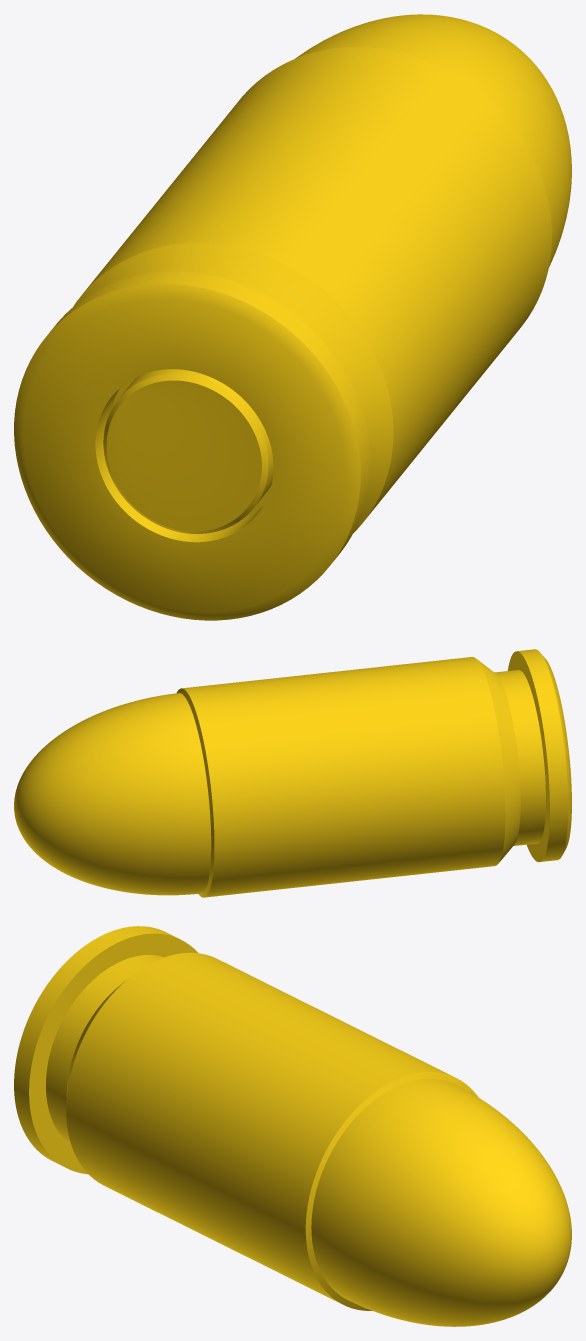
File: patron.fbx
The picture shows the model from 3 angles, top to bottom: view 1: azimuth 30°, elevation 25°; view 2: azimuth 150°, elevation 25°; view 3: azimuth 270°, elevation 25°; orthographic projection. The views are drawn at different scales.
Parts seen in each view (by area): view 1: patron1; view 2: patron1; view 3: patron1.
Part boxes in pixels (x1,y1,x2,y2): patron1: [14, 14, 571, 620]; patron1: [14, 649, 571, 897]; patron1: [14, 926, 571, 1326].
Size of the model in its own units: 23.68 by 10.55 by 22.35.
